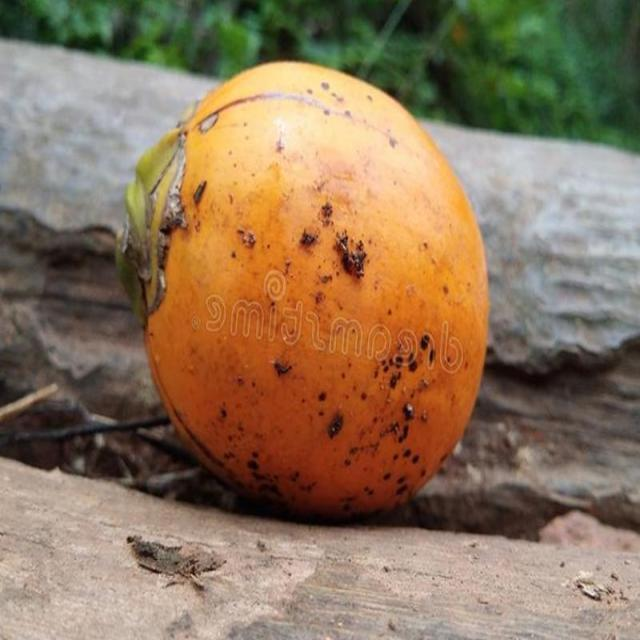good: (117, 62, 491, 526)
